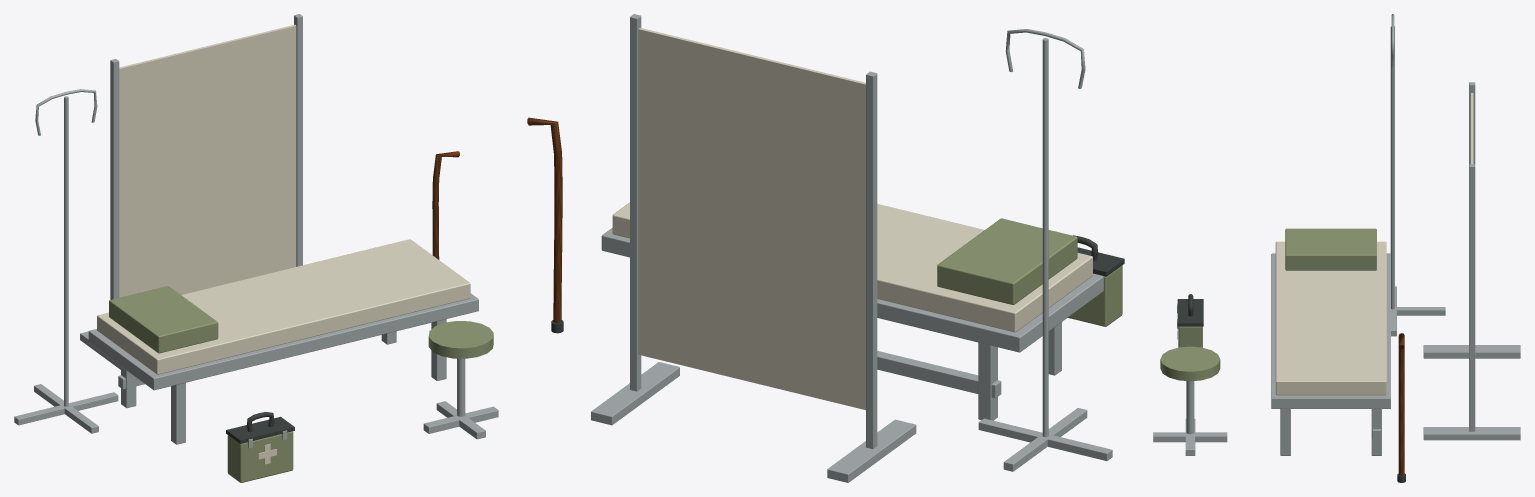
The model's file is field-medicine-and-recovery-recovery-sta-6d900299-starter-scene__3073.glb.
3 views of the same model, side by side, from view 1: azimuth 30°, elevation 25°; view 2: azimuth 150°, elevation 25°; view 3: azimuth 270°, elevation 25° (orthographic). The views are drawn at different scales.
Parts seen in each view (by area): view 1: 001-field-screen/1, 000-recovery-cot/1, 000-recovery-cot/0, 000-recovery-cot/2, 001-field-screen/0, 002-iv-stand/0, 004-first-aid-case/0, 003-examination-stool/0, 003-examination-stool/1, 004-first-aid-case/lid/dark, 005-walking-stick/0; view 2: 001-field-screen/1, 001-field-screen/0, 000-recovery-cot/1, 000-recovery-cot/0, 000-recovery-cot/2, 002-iv-stand/0, 005-walking-stick/0, 004-first-aid-case/0, 004-first-aid-case/lid/dark; view 3: 000-recovery-cot/1, 001-field-screen/0, 000-recovery-cot/0, 000-recovery-cot/2, 002-iv-stand/0, 003-examination-stool/0, 003-examination-stool/1, 005-walking-stick/0, 004-first-aid-case/lid/dark, 004-first-aid-case/0.
Part boxes in pixels (bbox=[...]): 001-field-screen/1: bbox=[119, 24, 296, 297]; 000-recovery-cot/1: bbox=[97, 239, 470, 374]; 000-recovery-cot/0: bbox=[88, 293, 478, 444]; 000-recovery-cot/2: bbox=[109, 286, 218, 353]; 001-field-screen/0: bbox=[80, 14, 302, 369]; 002-iv-stand/0: bbox=[14, 89, 118, 433]; 004-first-aid-case/0: bbox=[227, 431, 293, 482]; 003-examination-stool/0: bbox=[428, 321, 493, 358]; 003-examination-stool/1: bbox=[423, 358, 498, 439]; 004-first-aid-case/lid/dark: bbox=[226, 416, 294, 443]; 005-walking-stick/0: bbox=[432, 151, 459, 259]; 001-field-screen/1: bbox=[638, 27, 865, 409]; 001-field-screen/0: bbox=[591, 14, 916, 482]; 000-recovery-cot/1: bbox=[612, 202, 1092, 332]; 000-recovery-cot/0: bbox=[601, 228, 1103, 420]; 000-recovery-cot/2: bbox=[937, 218, 1077, 304]; 002-iv-stand/0: bbox=[978, 29, 1112, 471]; 005-walking-stick/0: bbox=[527, 117, 562, 323]; 004-first-aid-case/0: bbox=[1068, 265, 1122, 326]; 004-first-aid-case/lid/dark: bbox=[1077, 247, 1124, 276]; 000-recovery-cot/1: bbox=[1275, 241, 1386, 395]; 001-field-screen/0: bbox=[1423, 82, 1520, 440]; 000-recovery-cot/0: bbox=[1271, 253, 1390, 455]; 000-recovery-cot/2: bbox=[1285, 228, 1376, 270]; 002-iv-stand/0: bbox=[1390, 14, 1445, 336]; 003-examination-stool/0: bbox=[1160, 346, 1220, 381]; 003-examination-stool/1: bbox=[1153, 381, 1227, 455]; 005-walking-stick/0: bbox=[1398, 333, 1404, 475]; 004-first-aid-case/lid/dark: bbox=[1177, 299, 1203, 326]; 004-first-aid-case/0: bbox=[1178, 326, 1202, 347].
Bounding box in the file's own units: 2.68 × 1.83 × 2.09.
Materials: 5 (1 with a texture image).
